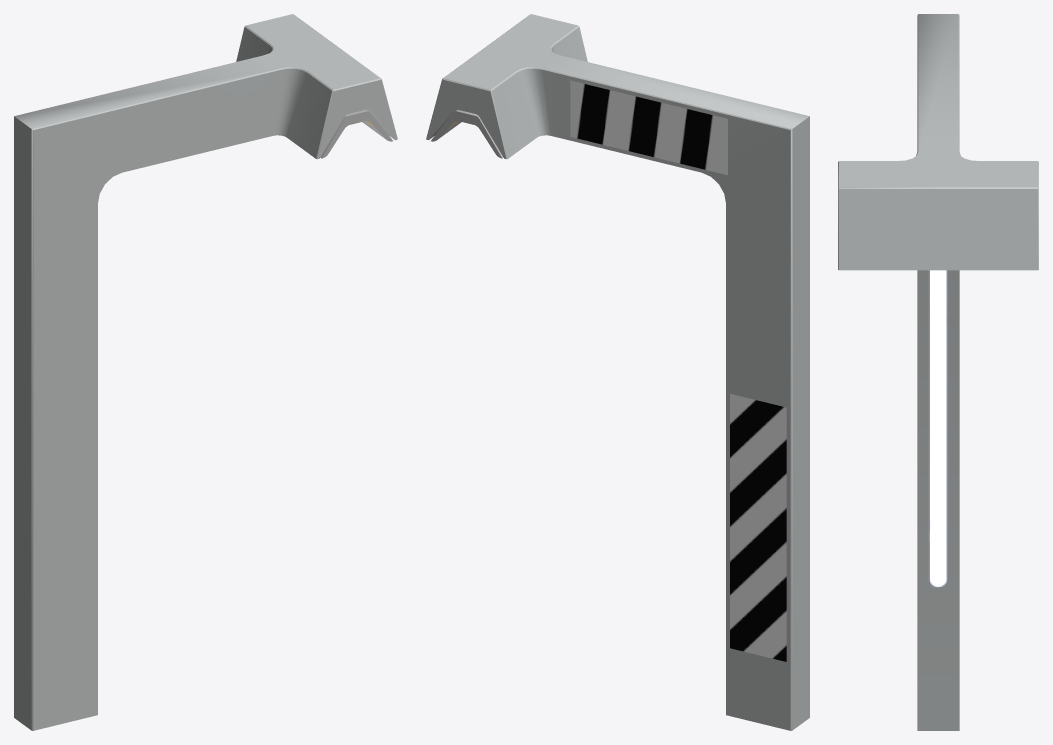
File: EB_Charger_m_s.FBX
The picture shows the model from 3 angles, left to right: view 1: azimuth 30°, elevation 25°; view 2: azimuth 150°, elevation 25°; view 3: azimuth 270°, elevation 25°; orthographic projection. The views are drawn at different scales.
Visible parts, largest first — view 1: Electrobus_Charger; view 2: Electrobus_Charger; view 3: Electrobus_Charger.
Part boxes in pixels (x1,y1,x2,y2): Electrobus_Charger: [14, 14, 397, 730]; Electrobus_Charger: [426, 14, 809, 730]; Electrobus_Charger: [838, 14, 1038, 730].
Bounding box in the file's own units: 3.03 × 5.27 × 1.41.
Materials: 1 (1 with a texture image).
